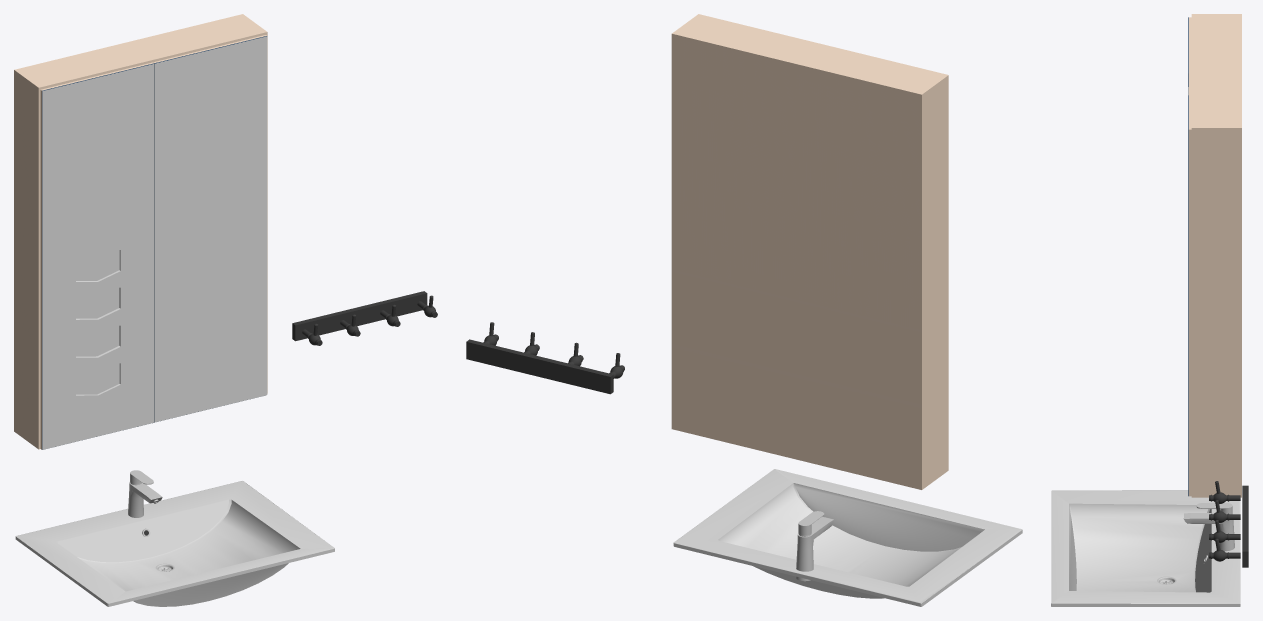
File: Sink.fbx
3 views of the same model, side by side, from view 1: azimuth 30°, elevation 25°; view 2: azimuth 150°, elevation 25°; view 3: azimuth 270°, elevation 25° (orthographic). The views are drawn at different scales.
Visible parts, largest first — view 1: rightdoor, leftdoor, Sink, Cabitnet, Knage, faucet; view 2: Cabitnet, Sink, Knage, faucet; view 3: Cabitnet, Sink, Knage, leftdoor, faucet.
Part boxes in pixels (x1=…): rightdoor: x1=40, y1=62, x2=154, y2=449; leftdoor: x1=153, y1=35, x2=267, y2=422; Sink: x1=15, y1=481, x2=334, y2=606; Cabitnet: x1=14, y1=14, x2=267, y2=449; Knage: x1=292, y1=291, x2=437, y2=345; faucet: x1=128, y1=470, x2=162, y2=517; Cabitnet: x1=671, y1=14, x2=948, y2=489; Sink: x1=673, y1=469, x2=1022, y2=606; Knage: x1=466, y1=322, x2=624, y2=394; faucet: x1=795, y1=511, x2=833, y2=581; Cabitnet: x1=1191, y1=14, x2=1241, y2=497; Sink: x1=1051, y1=490, x2=1240, y2=606; Knage: x1=1209, y1=481, x2=1248, y2=567; leftdoor: x1=1188, y1=73, x2=1191, y2=496; faucet: x1=1183, y1=503, x2=1234, y2=551.
Size of the model in its own units: 108 by 126 by 43.86.
